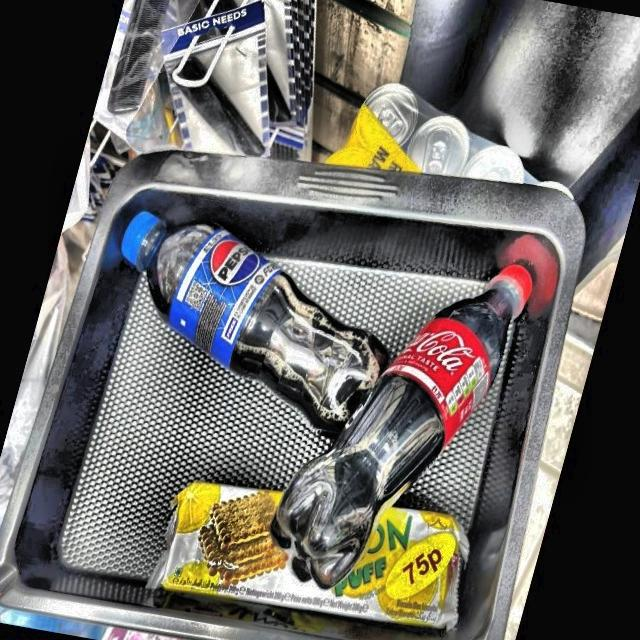coke-bottle: (282, 259, 531, 579)
lemon puff: (163, 477, 468, 640)
pepsi-bottle: (118, 213, 382, 433)
